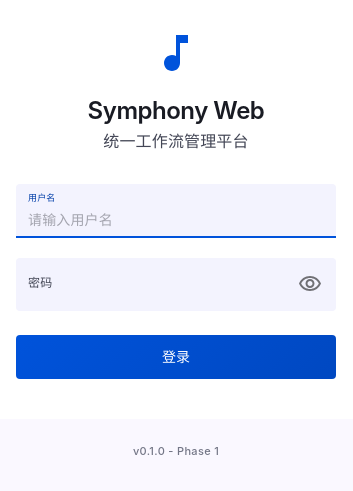
Test: Login › shows validation errors on empty submit
The image size is (353, 491).
Click the button "登录" at (176, 357), box [16, 335, 336, 379]
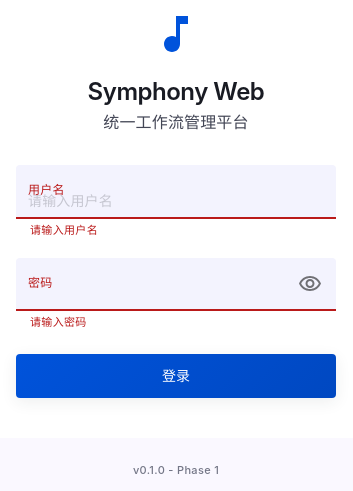
Expected: the text "请输入用户名" is shown, [30, 222, 98, 236]
Expected: the text "请输入密码" is shown, [30, 315, 87, 329]
